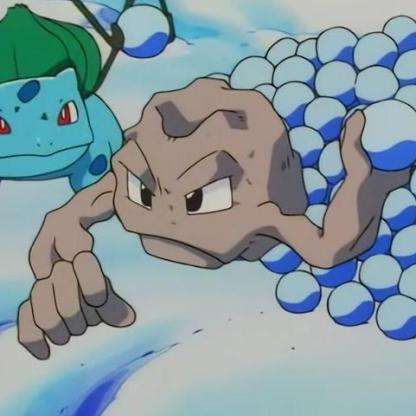Geodude: (1, 1, 416, 415)
